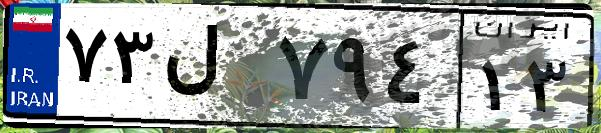1: (475, 38, 525, 113)
3: (525, 38, 570, 115), (110, 28, 158, 98)
4: (385, 28, 445, 110)
7: (270, 28, 330, 110), (57, 26, 110, 100)
9: (330, 28, 385, 110)
ل: (158, 20, 270, 120)
